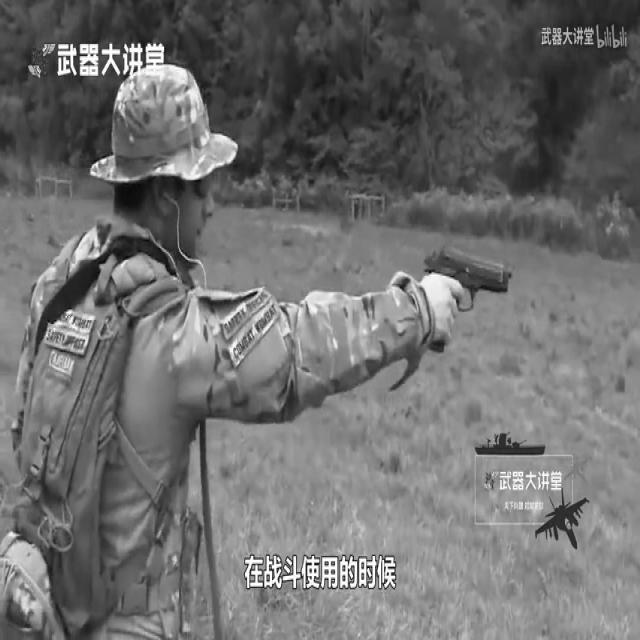Hand-Gun: (432, 156, 538, 423)
